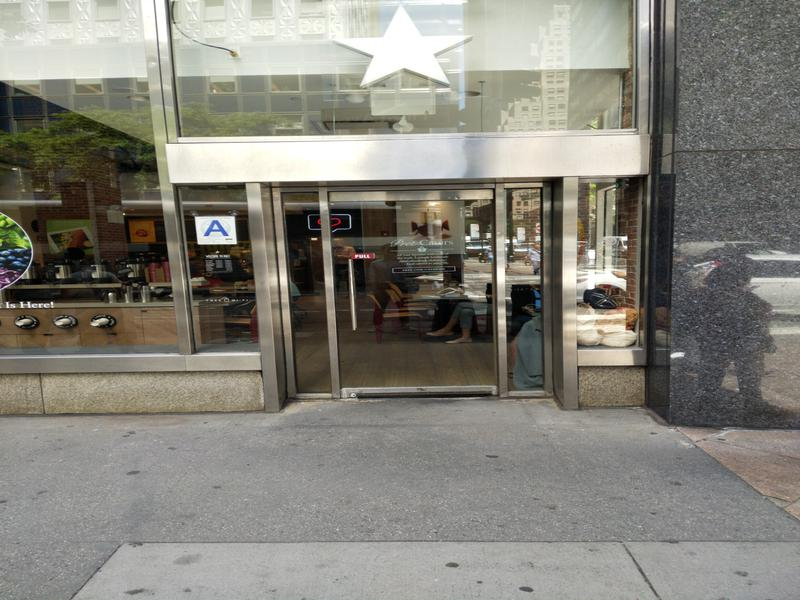door: (319, 184, 510, 403)
